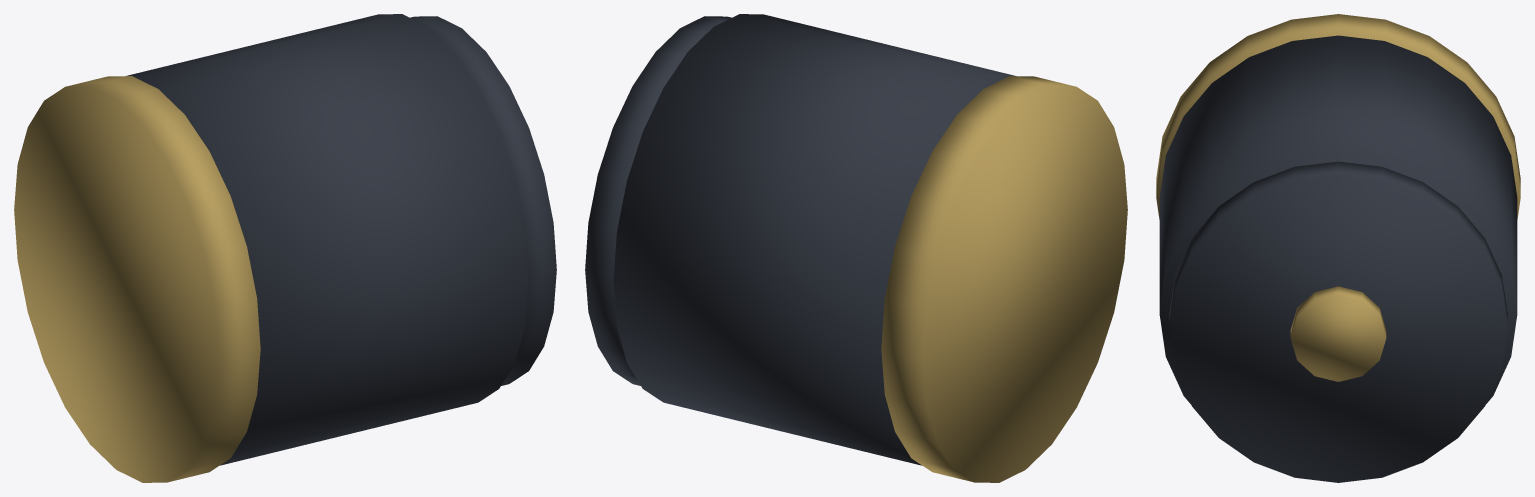
The model's file is colt_saa_cylinder_quick.fbx.
The picture shows the model from 3 angles, left to right: view 1: azimuth 30°, elevation 25°; view 2: azimuth 150°, elevation 25°; view 3: azimuth 270°, elevation 25°; orthographic projection. The views are drawn at different scales.
Visible parts, largest first — view 1: colt_saa_cylinder_quick; view 2: colt_saa_cylinder_quick; view 3: colt_saa_cylinder_quick.
Part boxes in pixels (x1,y1,x2,y2): colt_saa_cylinder_quick: (14,14,556,482); colt_saa_cylinder_quick: (585,14,1127,482); colt_saa_cylinder_quick: (1156,14,1520,482).
Size of the model in its own units: 0.0435 by 0.042 by 0.042.
